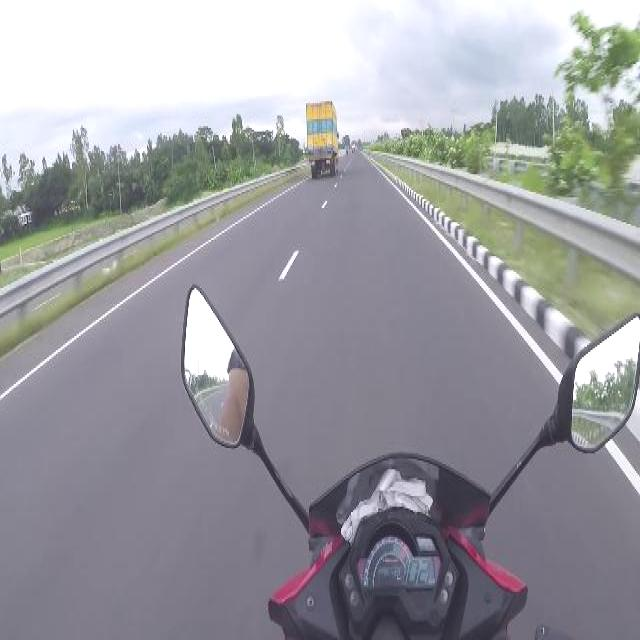TRUCK: (306, 101, 338, 176)
